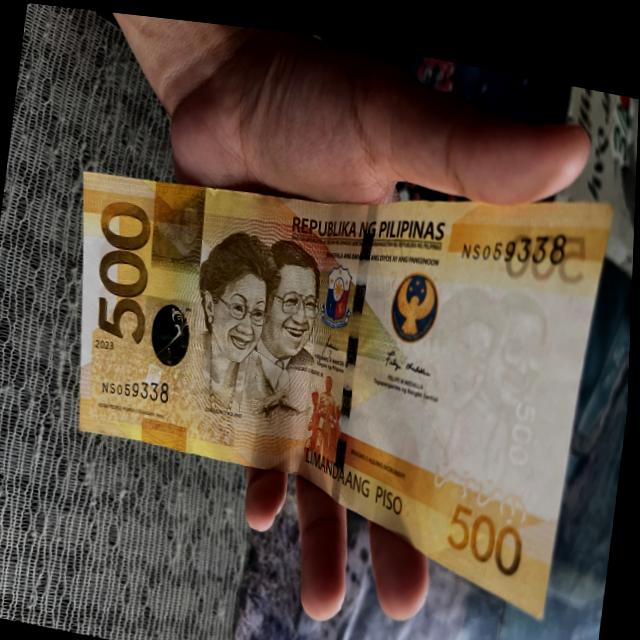concealed_value: (147, 175, 208, 271)
optically_variable_device: (145, 291, 197, 370)
security_thread: (325, 188, 392, 490)
see_through_mark: (423, 454, 547, 510)
serial_number: (456, 202, 574, 271), (88, 363, 186, 418)
value: (83, 183, 167, 351)
value_watermark: (499, 377, 547, 461)
watermark: (430, 259, 576, 471)
